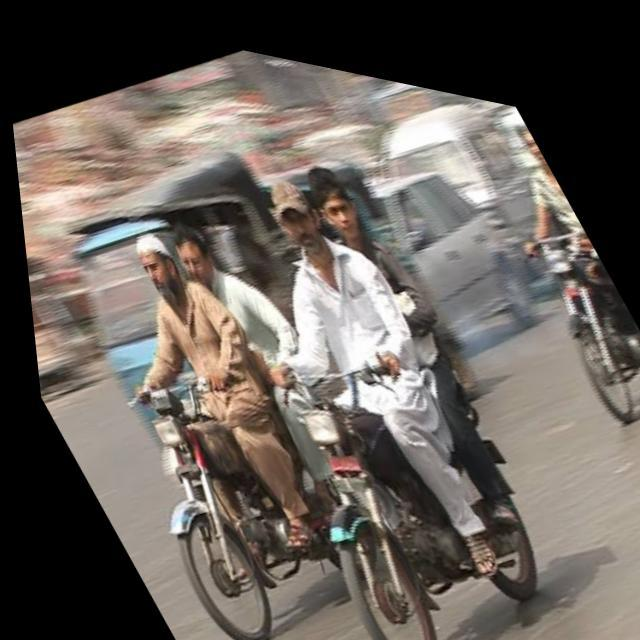Nonhelmet: (302, 160, 368, 251)
